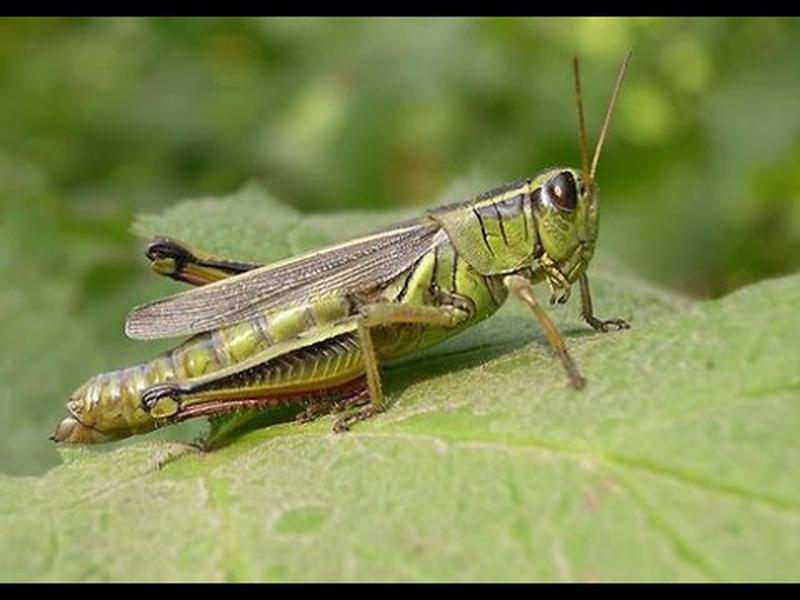Grasshopper: (54, 153, 617, 473)
